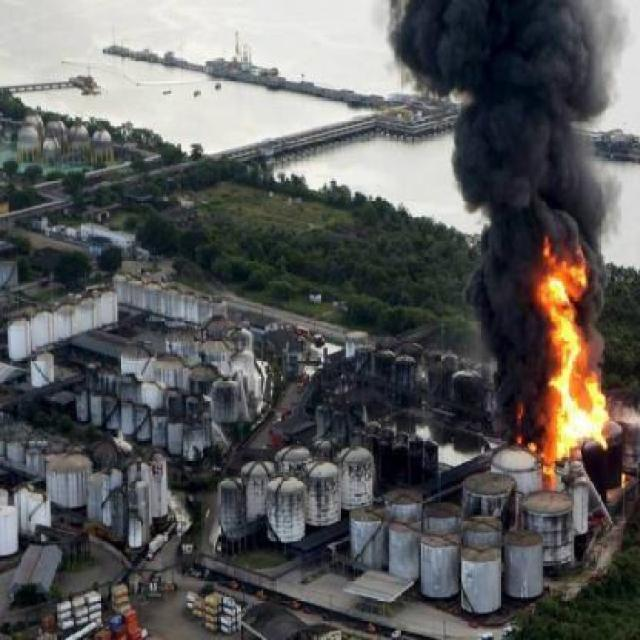Fire: (529, 238, 616, 480), (516, 432, 539, 454), (517, 402, 525, 424)
